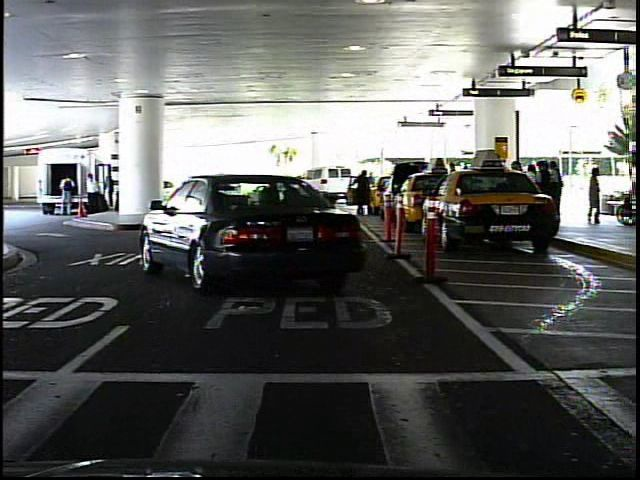person: (351, 165, 377, 221), (586, 163, 606, 227)
